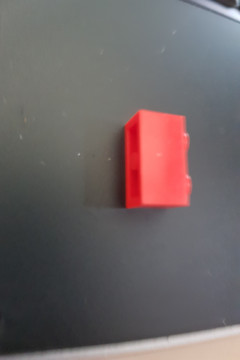1x2 red: (118, 109, 197, 219)
